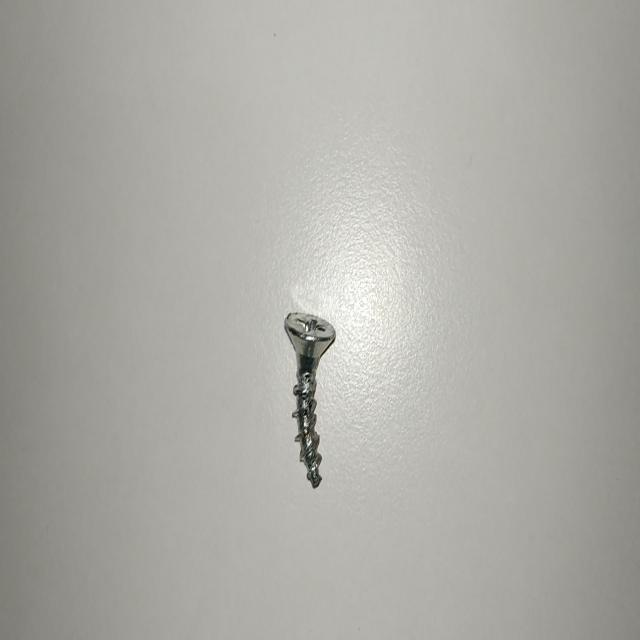Screw: (284, 312, 336, 488)
